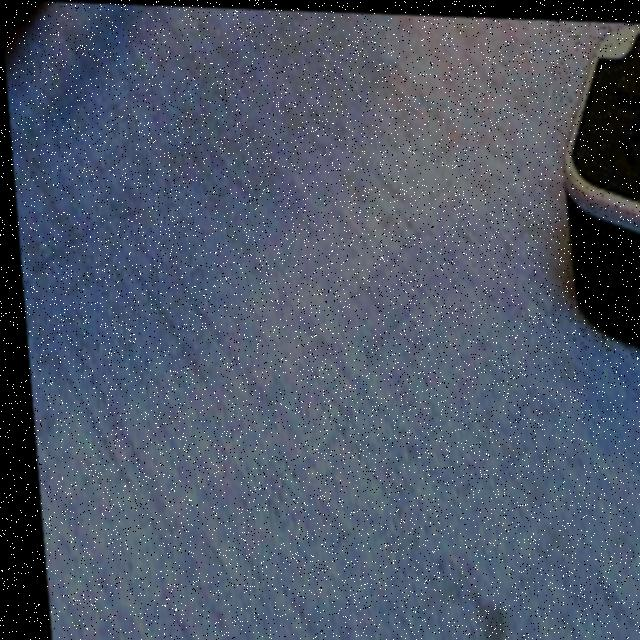adapter: (546, 16, 640, 358)
